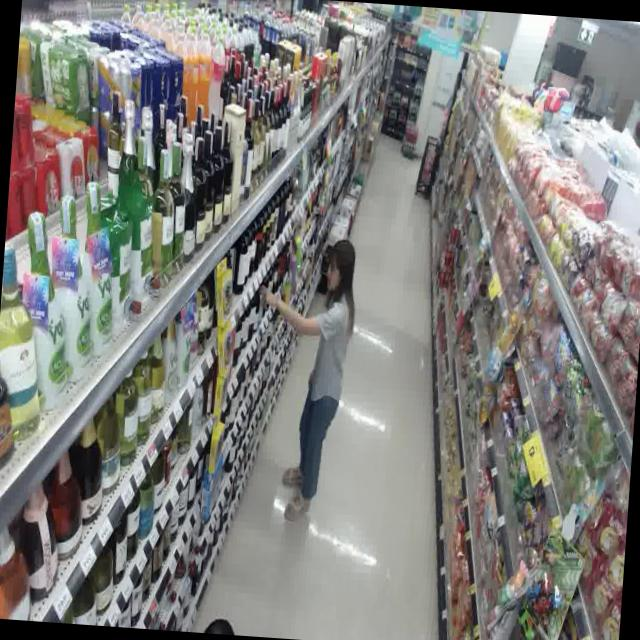pickup: (228, 211, 374, 544)
